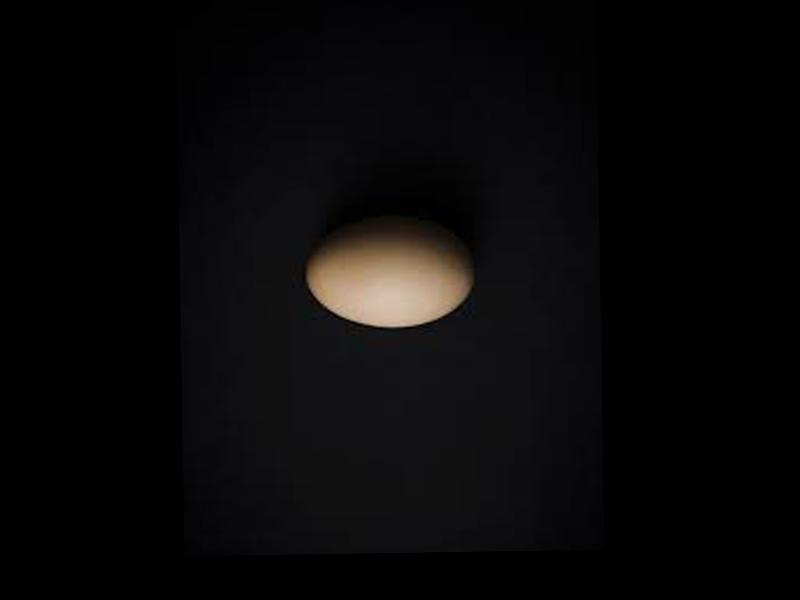Eggs: (301, 218, 477, 328)
